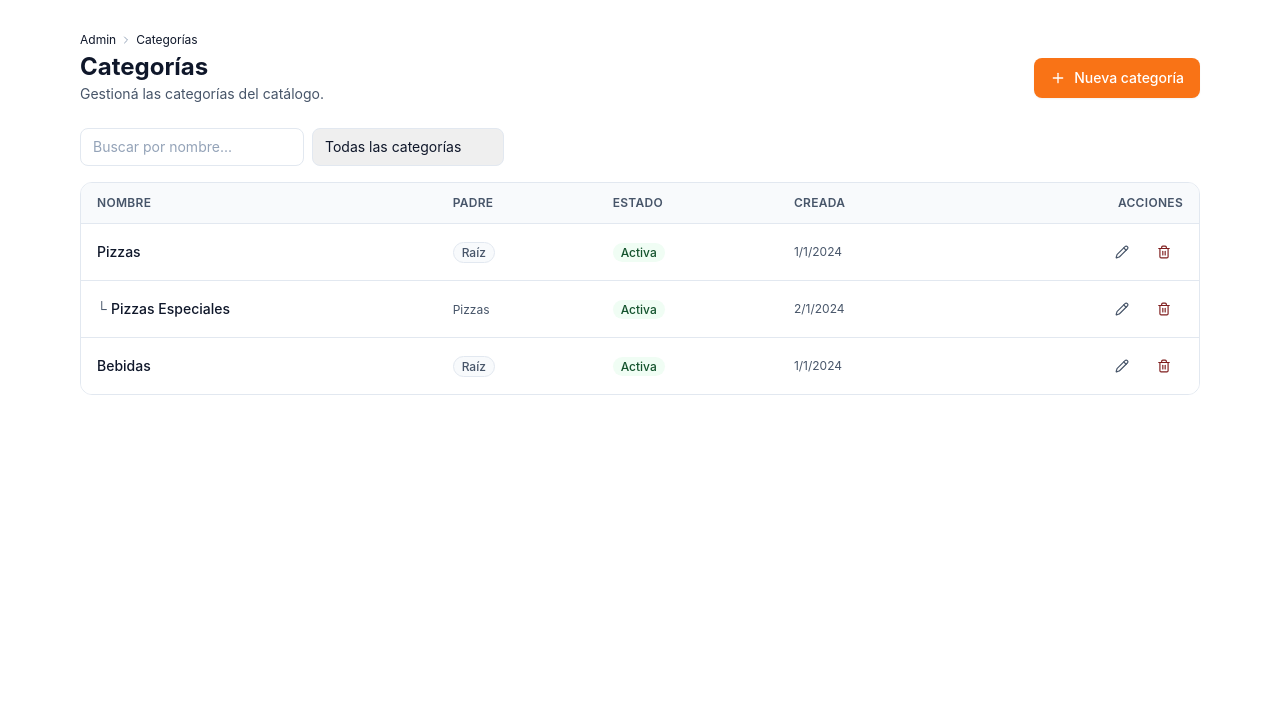
AdminCategorias › opens the create dialog when "Nueva categoría" is clicked
expect the 1st text "Pizzas" is shown: met, box x1=97 y1=243 x2=141 y2=260
Click the button "Nueva categoría" at x=1117, y=78, box x1=1034 y1=58 x2=1200 y2=98
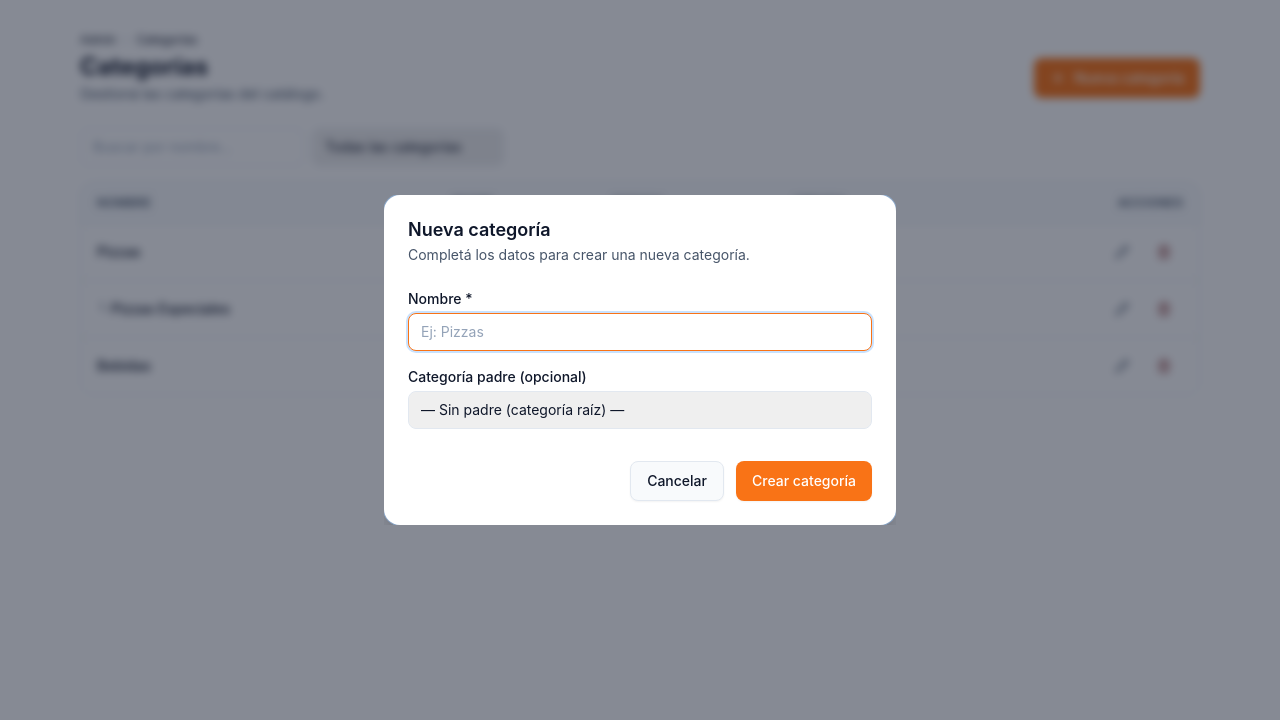
expect the heading "Nueva categoría" is shown: met, box x1=408 y1=219 x2=551 y2=240
expect the field labelled "Nombre *" is shown: met, box x1=408 y1=313 x2=872 y2=351
